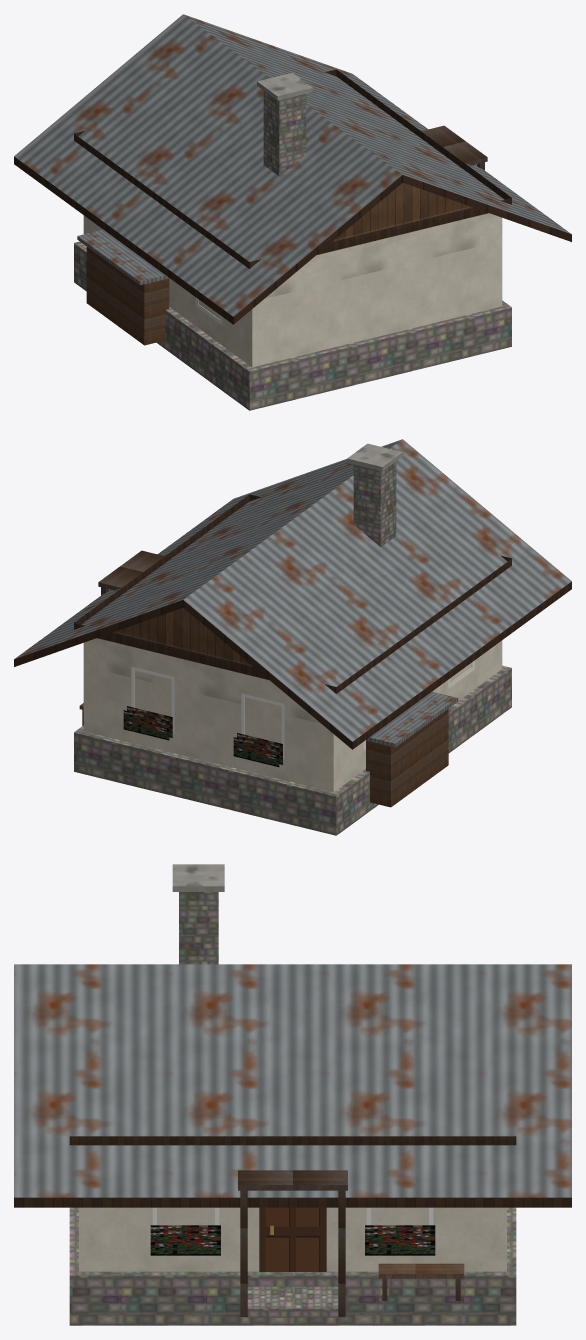
Rendered from chalet3.fbx.
3 renders of one model, top to bottom at view 1: azimuth 30°, elevation 25°; view 2: azimuth 150°, elevation 25°; view 3: azimuth 270°, elevation 25°, orthographic. The views are drawn at different scales.
Parts seen in each view (by area): view 1: chalet3; view 2: chalet3; view 3: chalet3.
Part boxes in pixels (x1,y1,x2,y2): chalet3: (14, 14, 571, 410); chalet3: (14, 439, 571, 835); chalet3: (14, 864, 571, 1325).
Bounding box in the file's own units: 8.21 × 6.14 × 9.12.
Materials: 11 (10 with a texture image).
